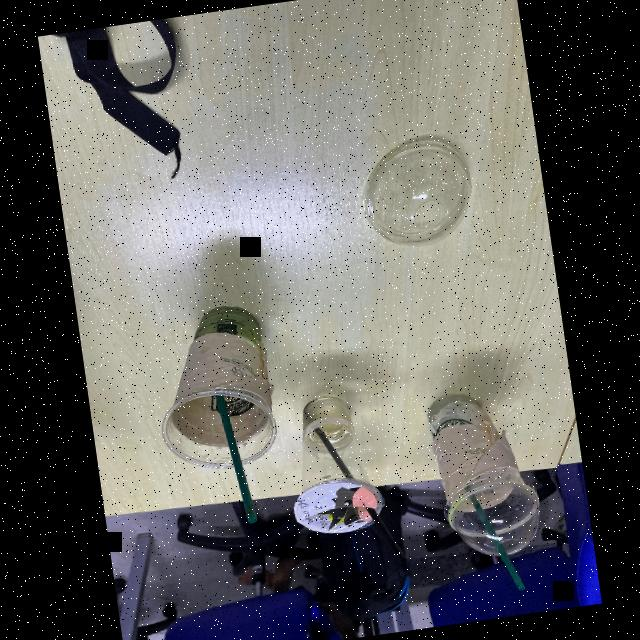plastic_cup: (145, 298, 284, 481), (416, 381, 545, 549), (276, 385, 390, 546)
plastic_cup_lid: (352, 126, 491, 258), (437, 470, 552, 570)
straw: (312, 426, 410, 566), (460, 482, 528, 596), (213, 394, 261, 526)
